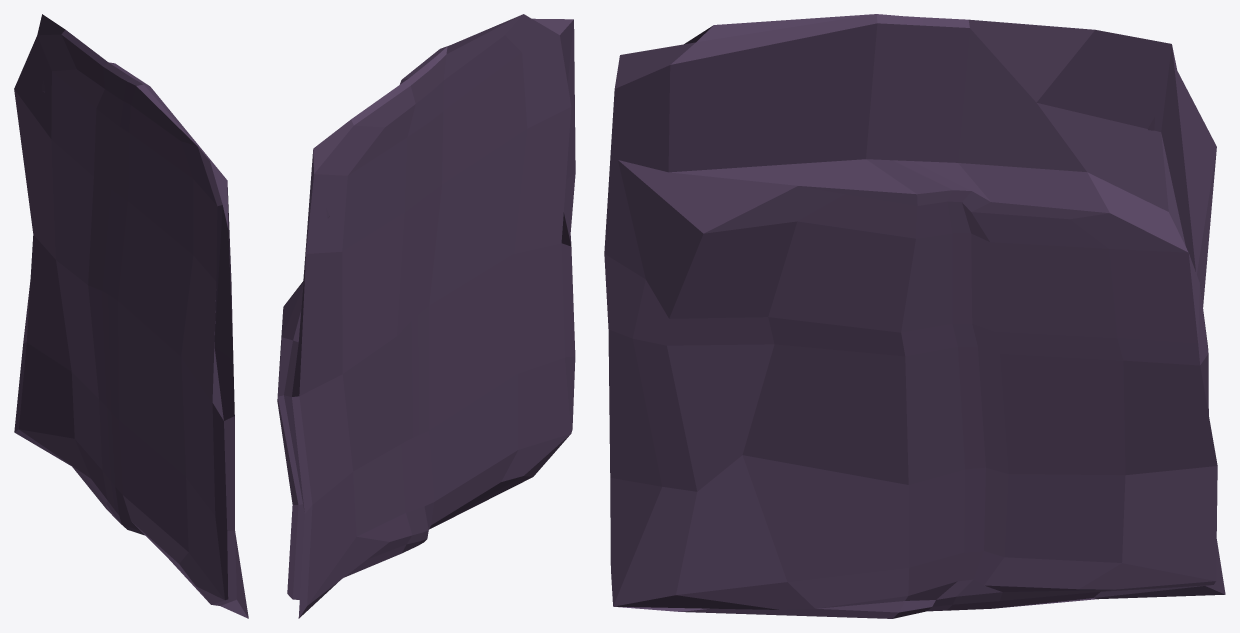
File: wall3_1.fbx
3 renders of one model, left to right at view 1: azimuth 30°, elevation 25°; view 2: azimuth 150°, elevation 25°; view 3: azimuth 270°, elevation 25°, orthographic. The views are drawn at different scales.
Visible parts, largest first — view 1: Cube.1107; view 2: Cube.1107; view 3: Cube.1107.
Boxes of the visible parts, box(x1,y1,x2,y2) form: Cube.1107: box(14, 14, 248, 618); Cube.1107: box(277, 14, 575, 618); Cube.1107: box(604, 14, 1225, 618).
Bounding box in the file's own units: 229 × 1716 × 1616.
